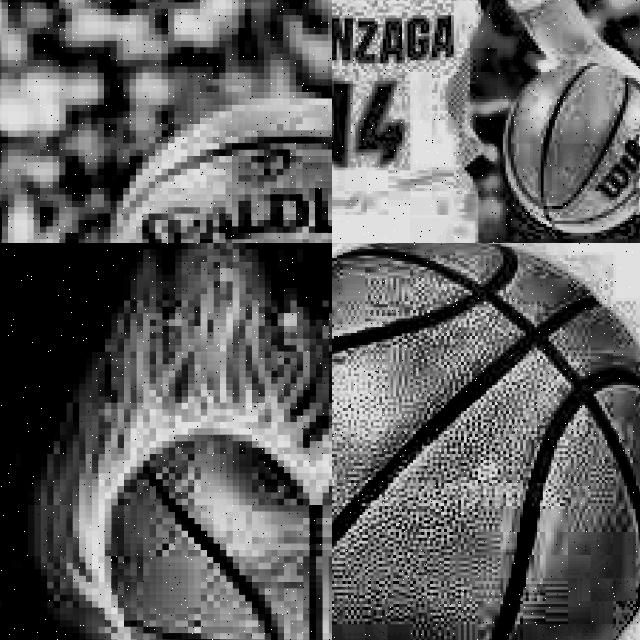Basketball: (332, 243, 640, 640), (109, 98, 332, 243), (505, 66, 640, 236)
